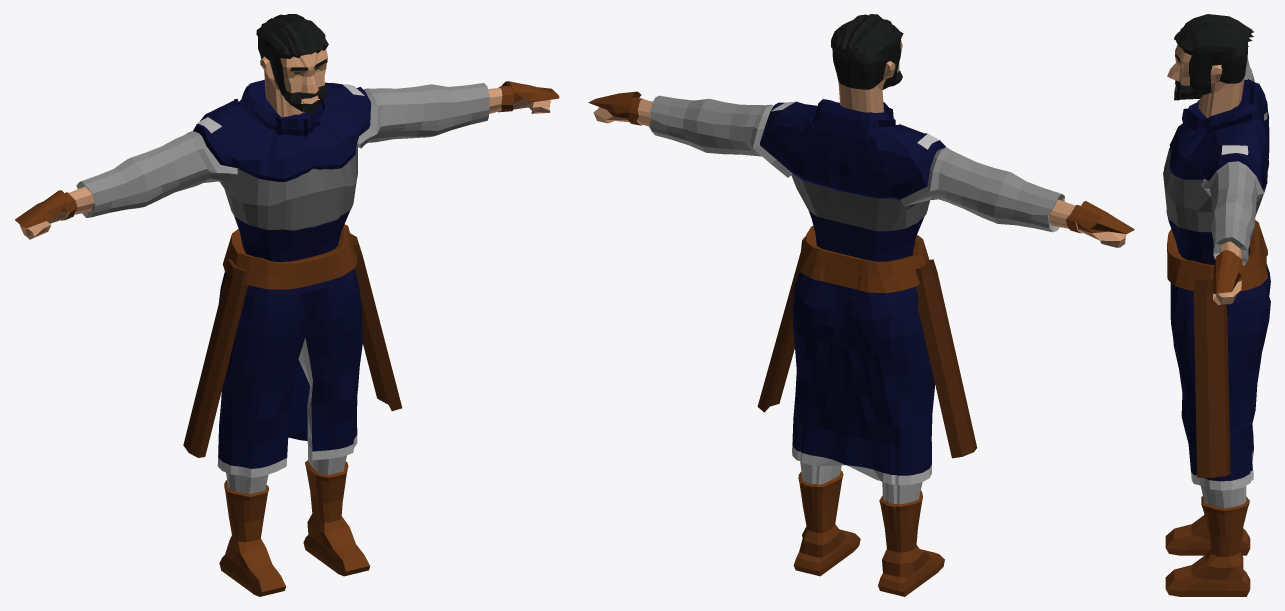
The model's file is Map1Enemy3.fbx.
3 renders of one model, left to right at view 1: azimuth 30°, elevation 25°; view 2: azimuth 150°, elevation 25°; view 3: azimuth 270°, elevation 25°, orthographic.
Visible parts, largest first — view 1: Plane; view 2: Plane; view 3: Plane.
Part boxes in pixels (x1,y1,x2,y2): Plane: [15, 14, 559, 596]; Plane: [588, 14, 1134, 596]; Plane: [1163, 14, 1270, 596].
Size of the model in its own units: 200 by 197 by 34.73.
